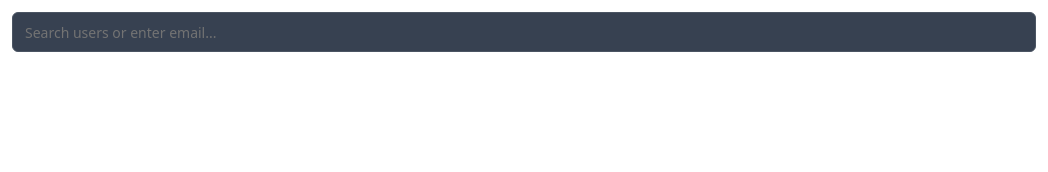
UserPicker › User Selection › should call onUserSelect when user is selected from dropdown
The width and height of the screenshot is (1048, 172).
Later steps or results of the test are not shown.
Type to search
In the field with placeholder "Search users or enter email...": [524, 32] box [12,12,1036,52], type "Selected"
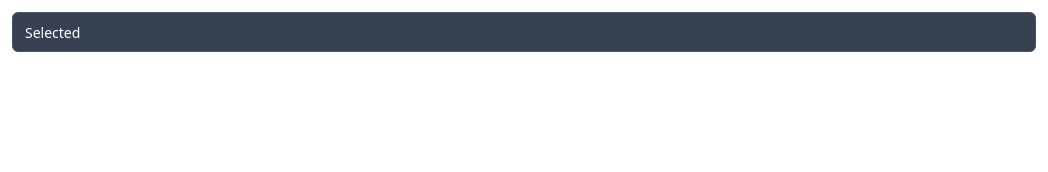
Focus the field with placeholder "Search users or enter email...": [524, 32] box [12,12,1036,52]
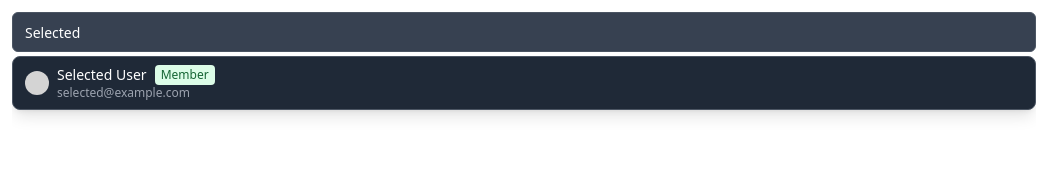
expect the text "Selected User" is shown: met, box [57,65,147,85]
